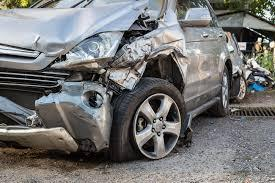bonnet-dent: (0, 1, 124, 46)
fender-dent: (127, 13, 183, 80)
front-bumper-dent: (0, 73, 112, 155)
